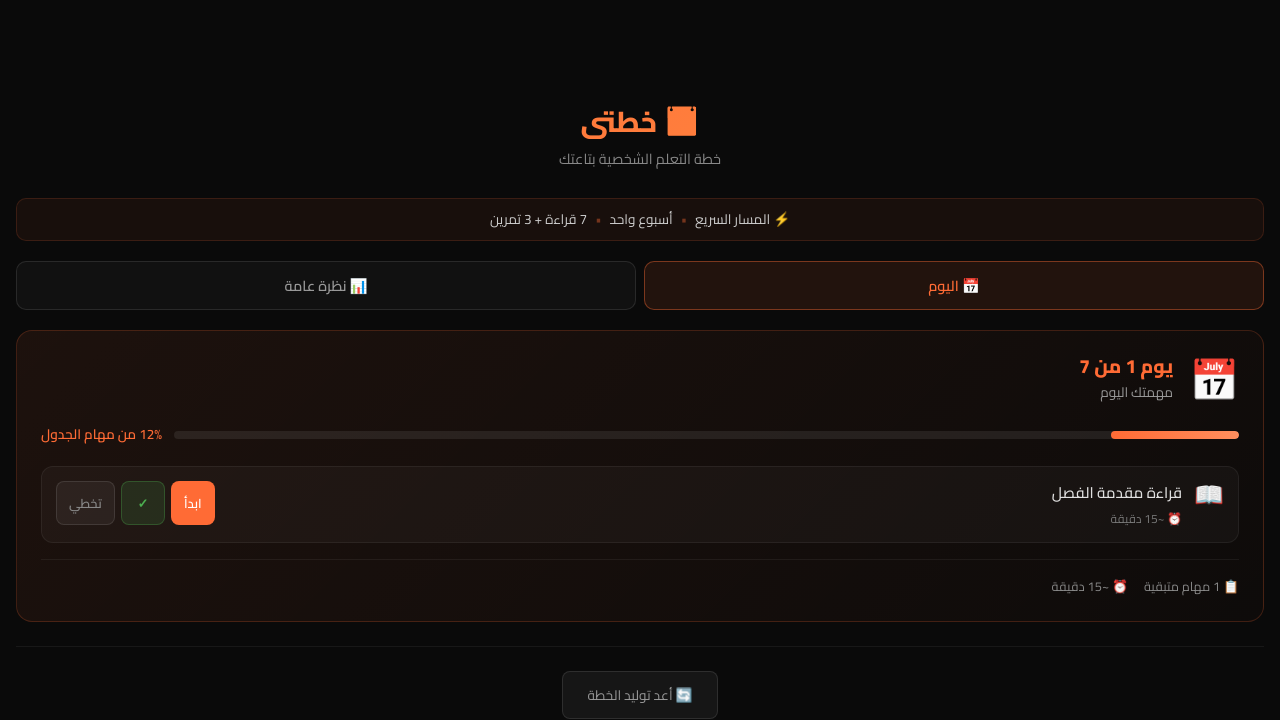
MyPlanPage displays saved plans and confirmed task updates › reloads today’s plan after a successful PATCH and displays the server’s updated progress
Click the button named "أكملت: قراءة مقدمة الفصل". click: [143, 503]
box: [121,481,165,525]
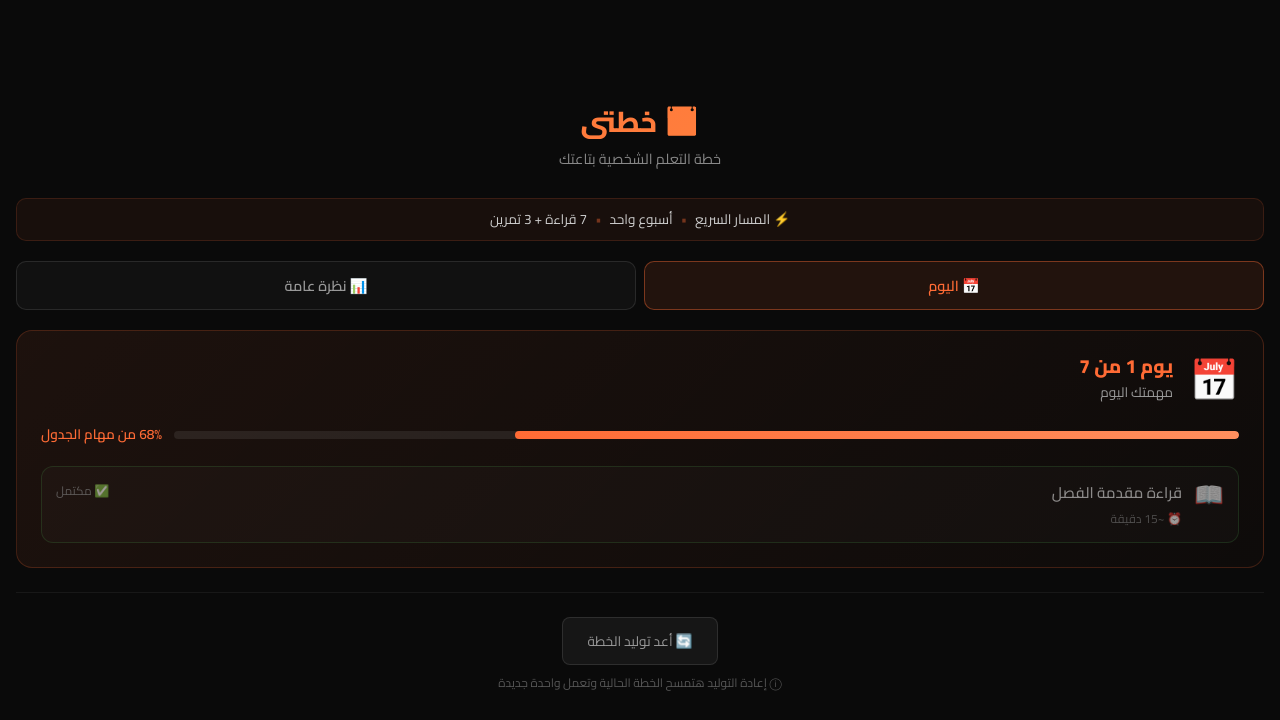
Check: the text "68% من مهام الجدول" is shown, box [41,424,162,446]
Check: the text "✅ مكتمل" is shown, box [56,481,109,500]
Check: the text "12%" is gone
